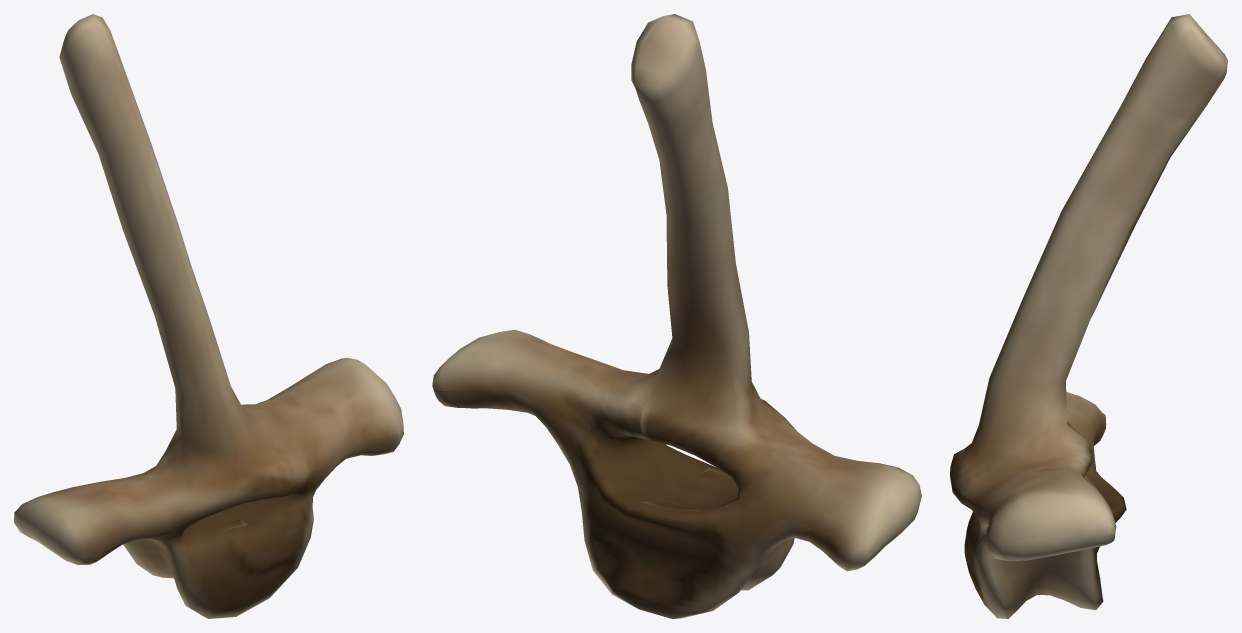
The model's file is Thoracic_Vertebrae7.glb.
3 views of the same model, side by side, from view 1: azimuth 30°, elevation 25°; view 2: azimuth 150°, elevation 25°; view 3: azimuth 270°, elevation 25° (orthographic). The views are drawn at different scales.
Visible parts, largest first — view 1: Horse_low:SelSet_48Merged_L_Frt_Sesamoid_Bones_1; view 2: Horse_low:SelSet_48Merged_L_Frt_Sesamoid_Bones_1; view 3: Horse_low:SelSet_48Merged_L_Frt_Sesamoid_Bones_1.
Boxes of the visible parts, <box> form: Horse_low:SelSet_48Merged_L_Frt_Sesamoid_Bones_1: <box>14,14,403,618</box>; Horse_low:SelSet_48Merged_L_Frt_Sesamoid_Bones_1: <box>432,14,921,618</box>; Horse_low:SelSet_48Merged_L_Frt_Sesamoid_Bones_1: <box>950,14,1227,618</box>.
Size of the model in its own units: 0.1379 by 0.201 by 0.0893.
Materials: 1 (1 with a texture image).
